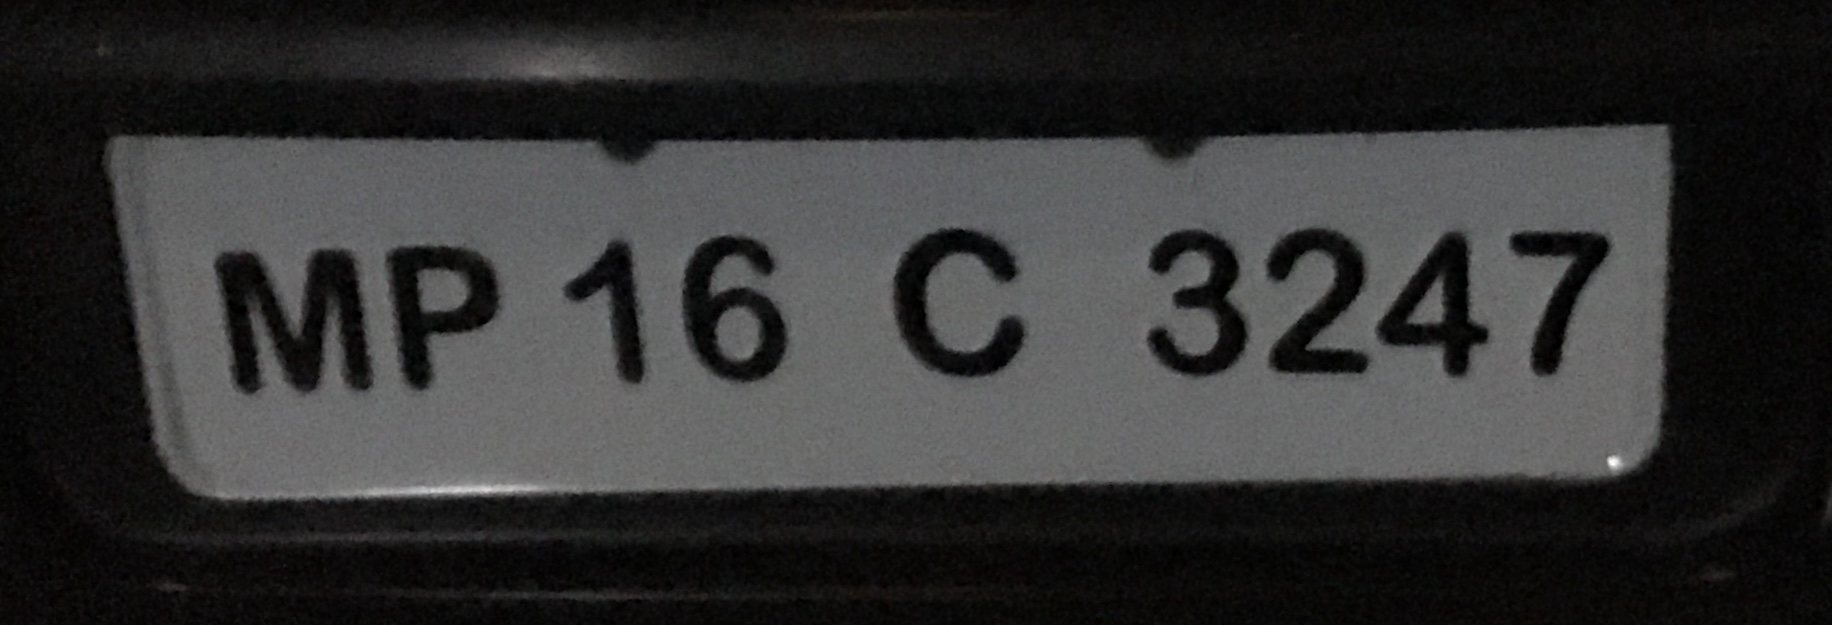numberplate: (93, 117, 1685, 512)
